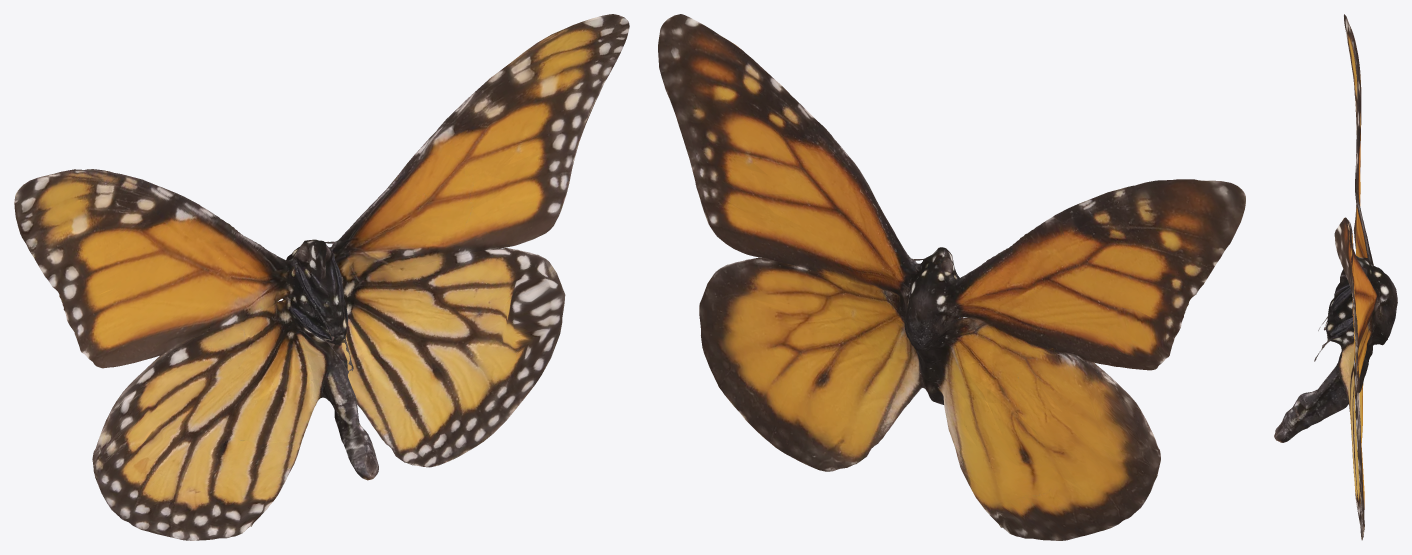
File: monarca.glb
3 renders of one model, left to right at view 1: azimuth 30°, elevation 25°; view 2: azimuth 150°, elevation 25°; view 3: azimuth 270°, elevation 25°, orthographic. The views are drawn at different scales.
Visible parts, largest first — view 1: Object_2; view 2: Object_2; view 3: Object_2.
Part boxes in pixels (x1,y1,x2,y2): Object_2: (14, 14, 629, 540); Object_2: (658, 14, 1245, 540); Object_2: (1274, 14, 1397, 540).
Size of the model in its own units: 1.69 by 1.17 by 0.3422.
1 material, 1 textured.
